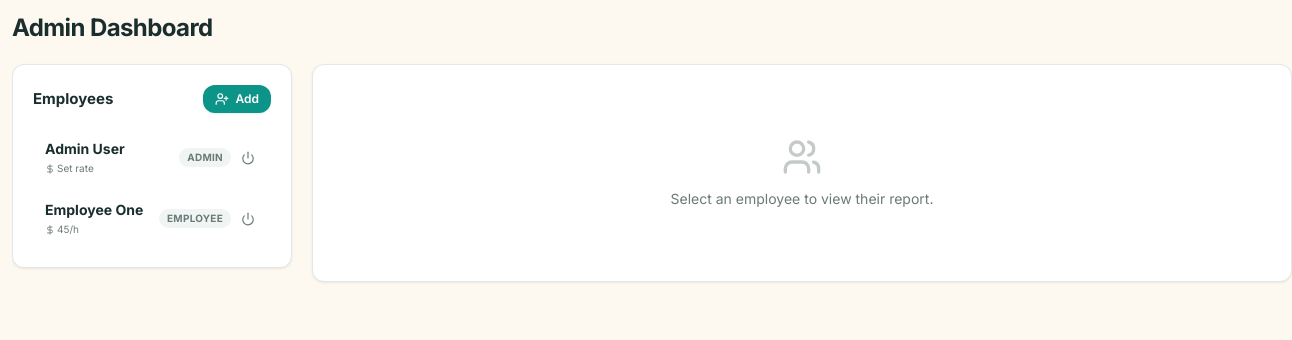
Test case: AdminPage — Feature Tests (#3, #10) › displays hourly rate for employees in the report
// Click on employee to view report
Click the text "Employee One" at (94, 210), box [45,200,143,220]
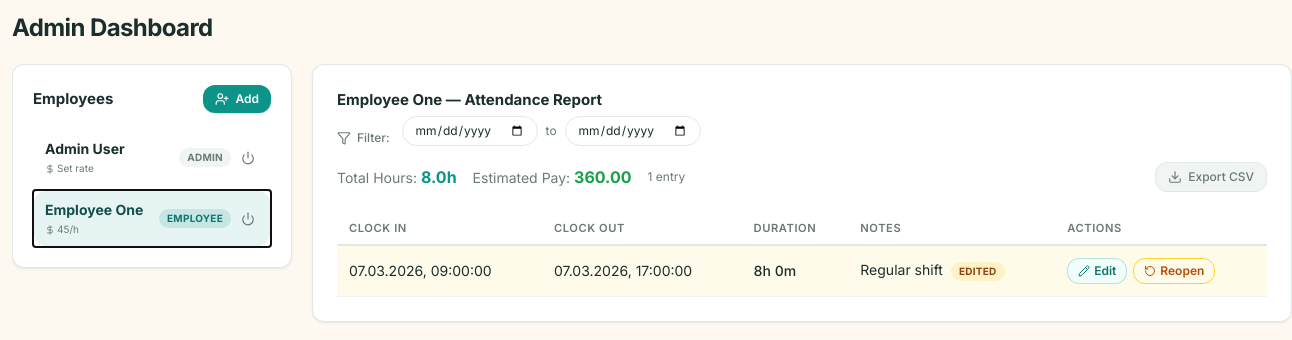
Expected: the text "Estimated Pay: 360.00" is shown, [473,164,632,188]
